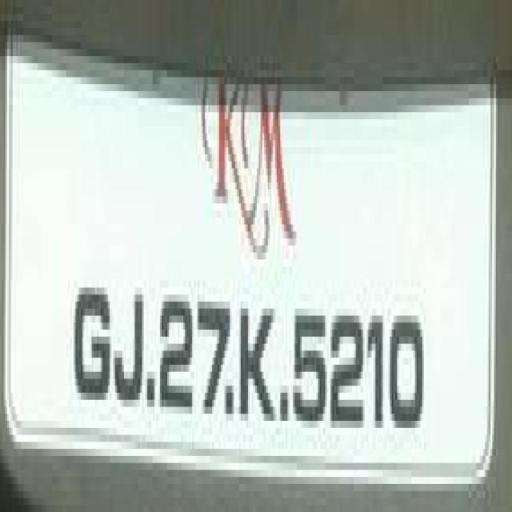number plate: (9, 49, 487, 491)
